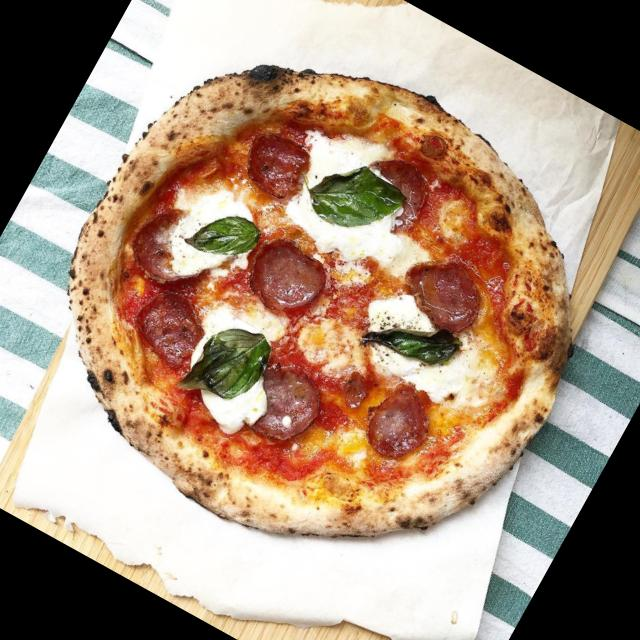pepperoni: (384, 238, 506, 351), (230, 344, 338, 459), (348, 371, 451, 478), (233, 228, 334, 328), (119, 195, 218, 296), (232, 118, 324, 210), (124, 278, 214, 372), (357, 146, 448, 236)
pizza: (66, 65, 573, 541)
